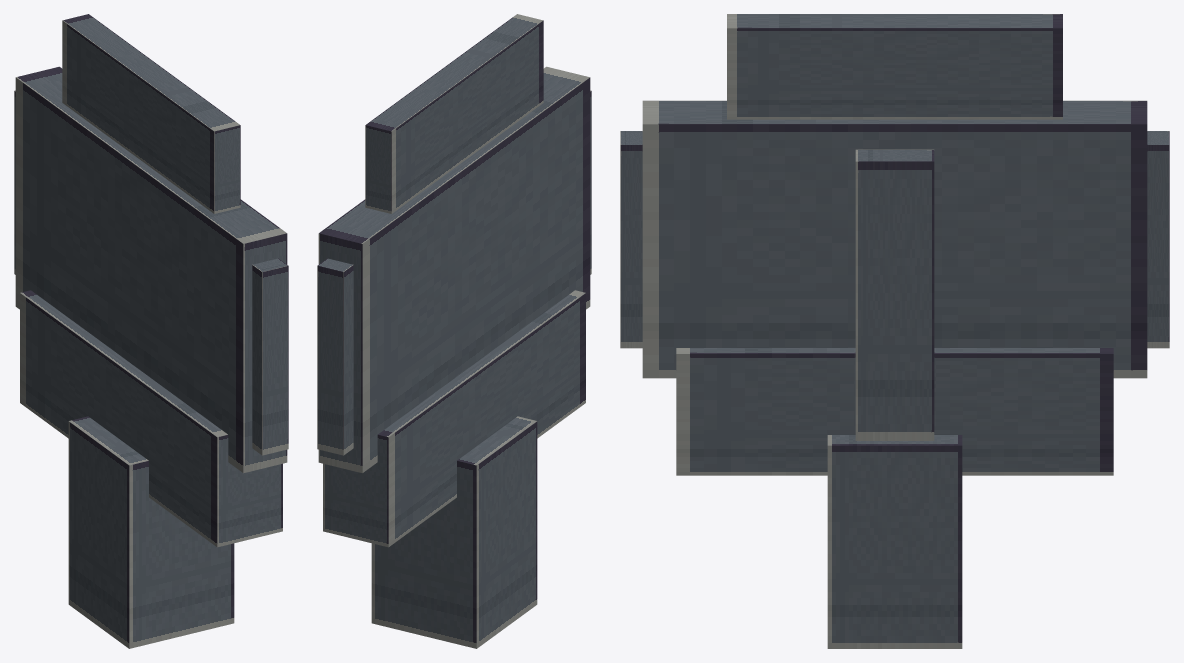
The model's file is workpiece_forged_shovel_tempered.obj.
3 views of the same model, side by side, from view 1: azimuth 30°, elevation 25°; view 2: azimuth 150°, elevation 25°; view 3: azimuth 270°, elevation 25° (orthographic). The views are drawn at different scales.
Visible parts, largest first — view 1: geometry; view 2: geometry; view 3: geometry.
Boxes of the visible parts, left/top/right/bottom form: geometry: left=14, top=14, right=288, bottom=648; geometry: left=317, top=14, right=591, bottom=648; geometry: left=620, top=14, right=1169, bottom=648.
Bounding box in the file's own units: 0.15 × 0.7375 × 0.6125.
